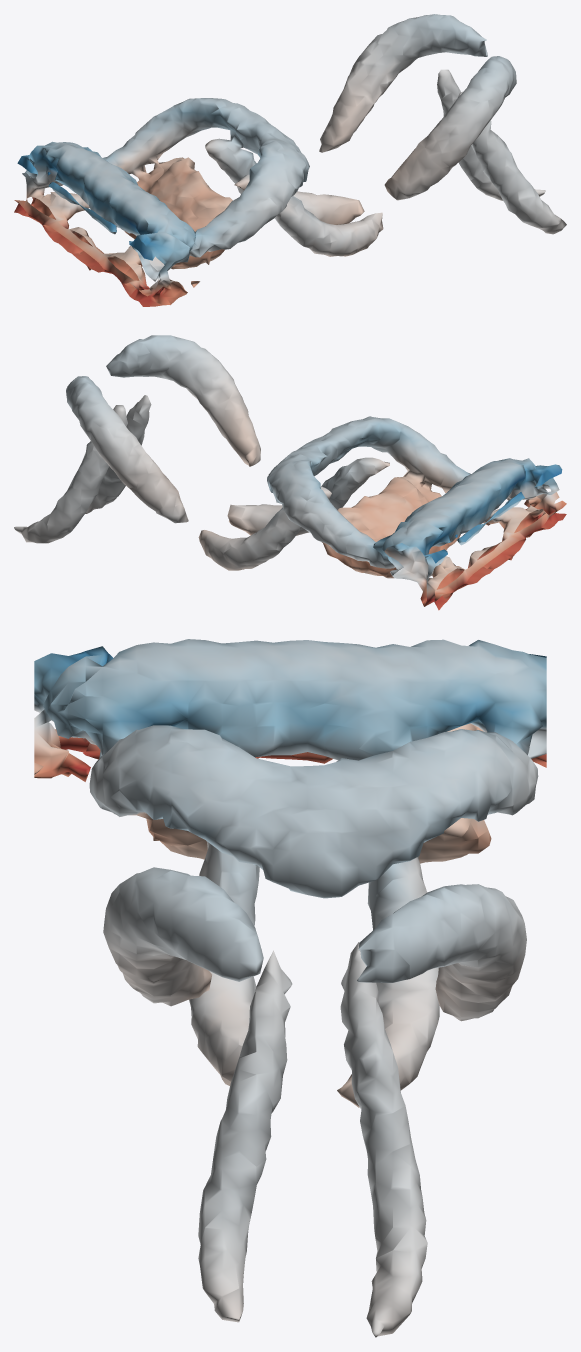
3 renders of one model, top to bottom at view 1: azimuth 30°, elevation 25°; view 2: azimuth 150°, elevation 25°; view 3: azimuth 270°, elevation 25°, orthographic. The views are drawn at different scales.
Size of the model in its own units: 5.27 by 2.04 by 2.5.
